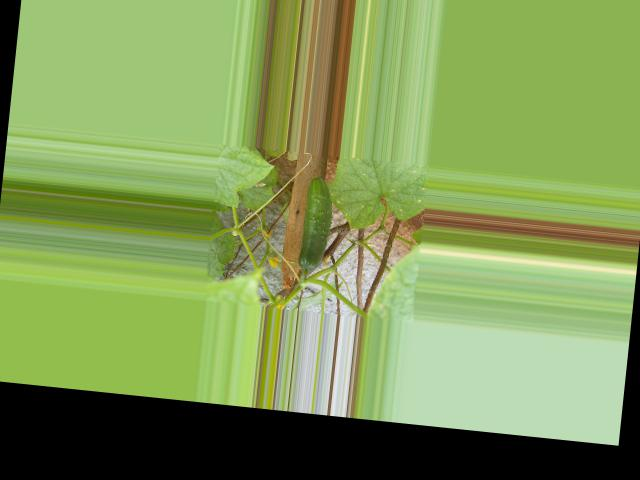cucumber: (296, 175, 335, 272)
